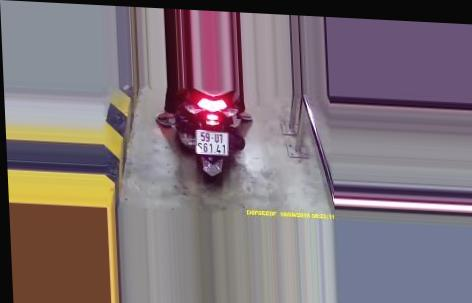License_Plate: (191, 126, 233, 161)
